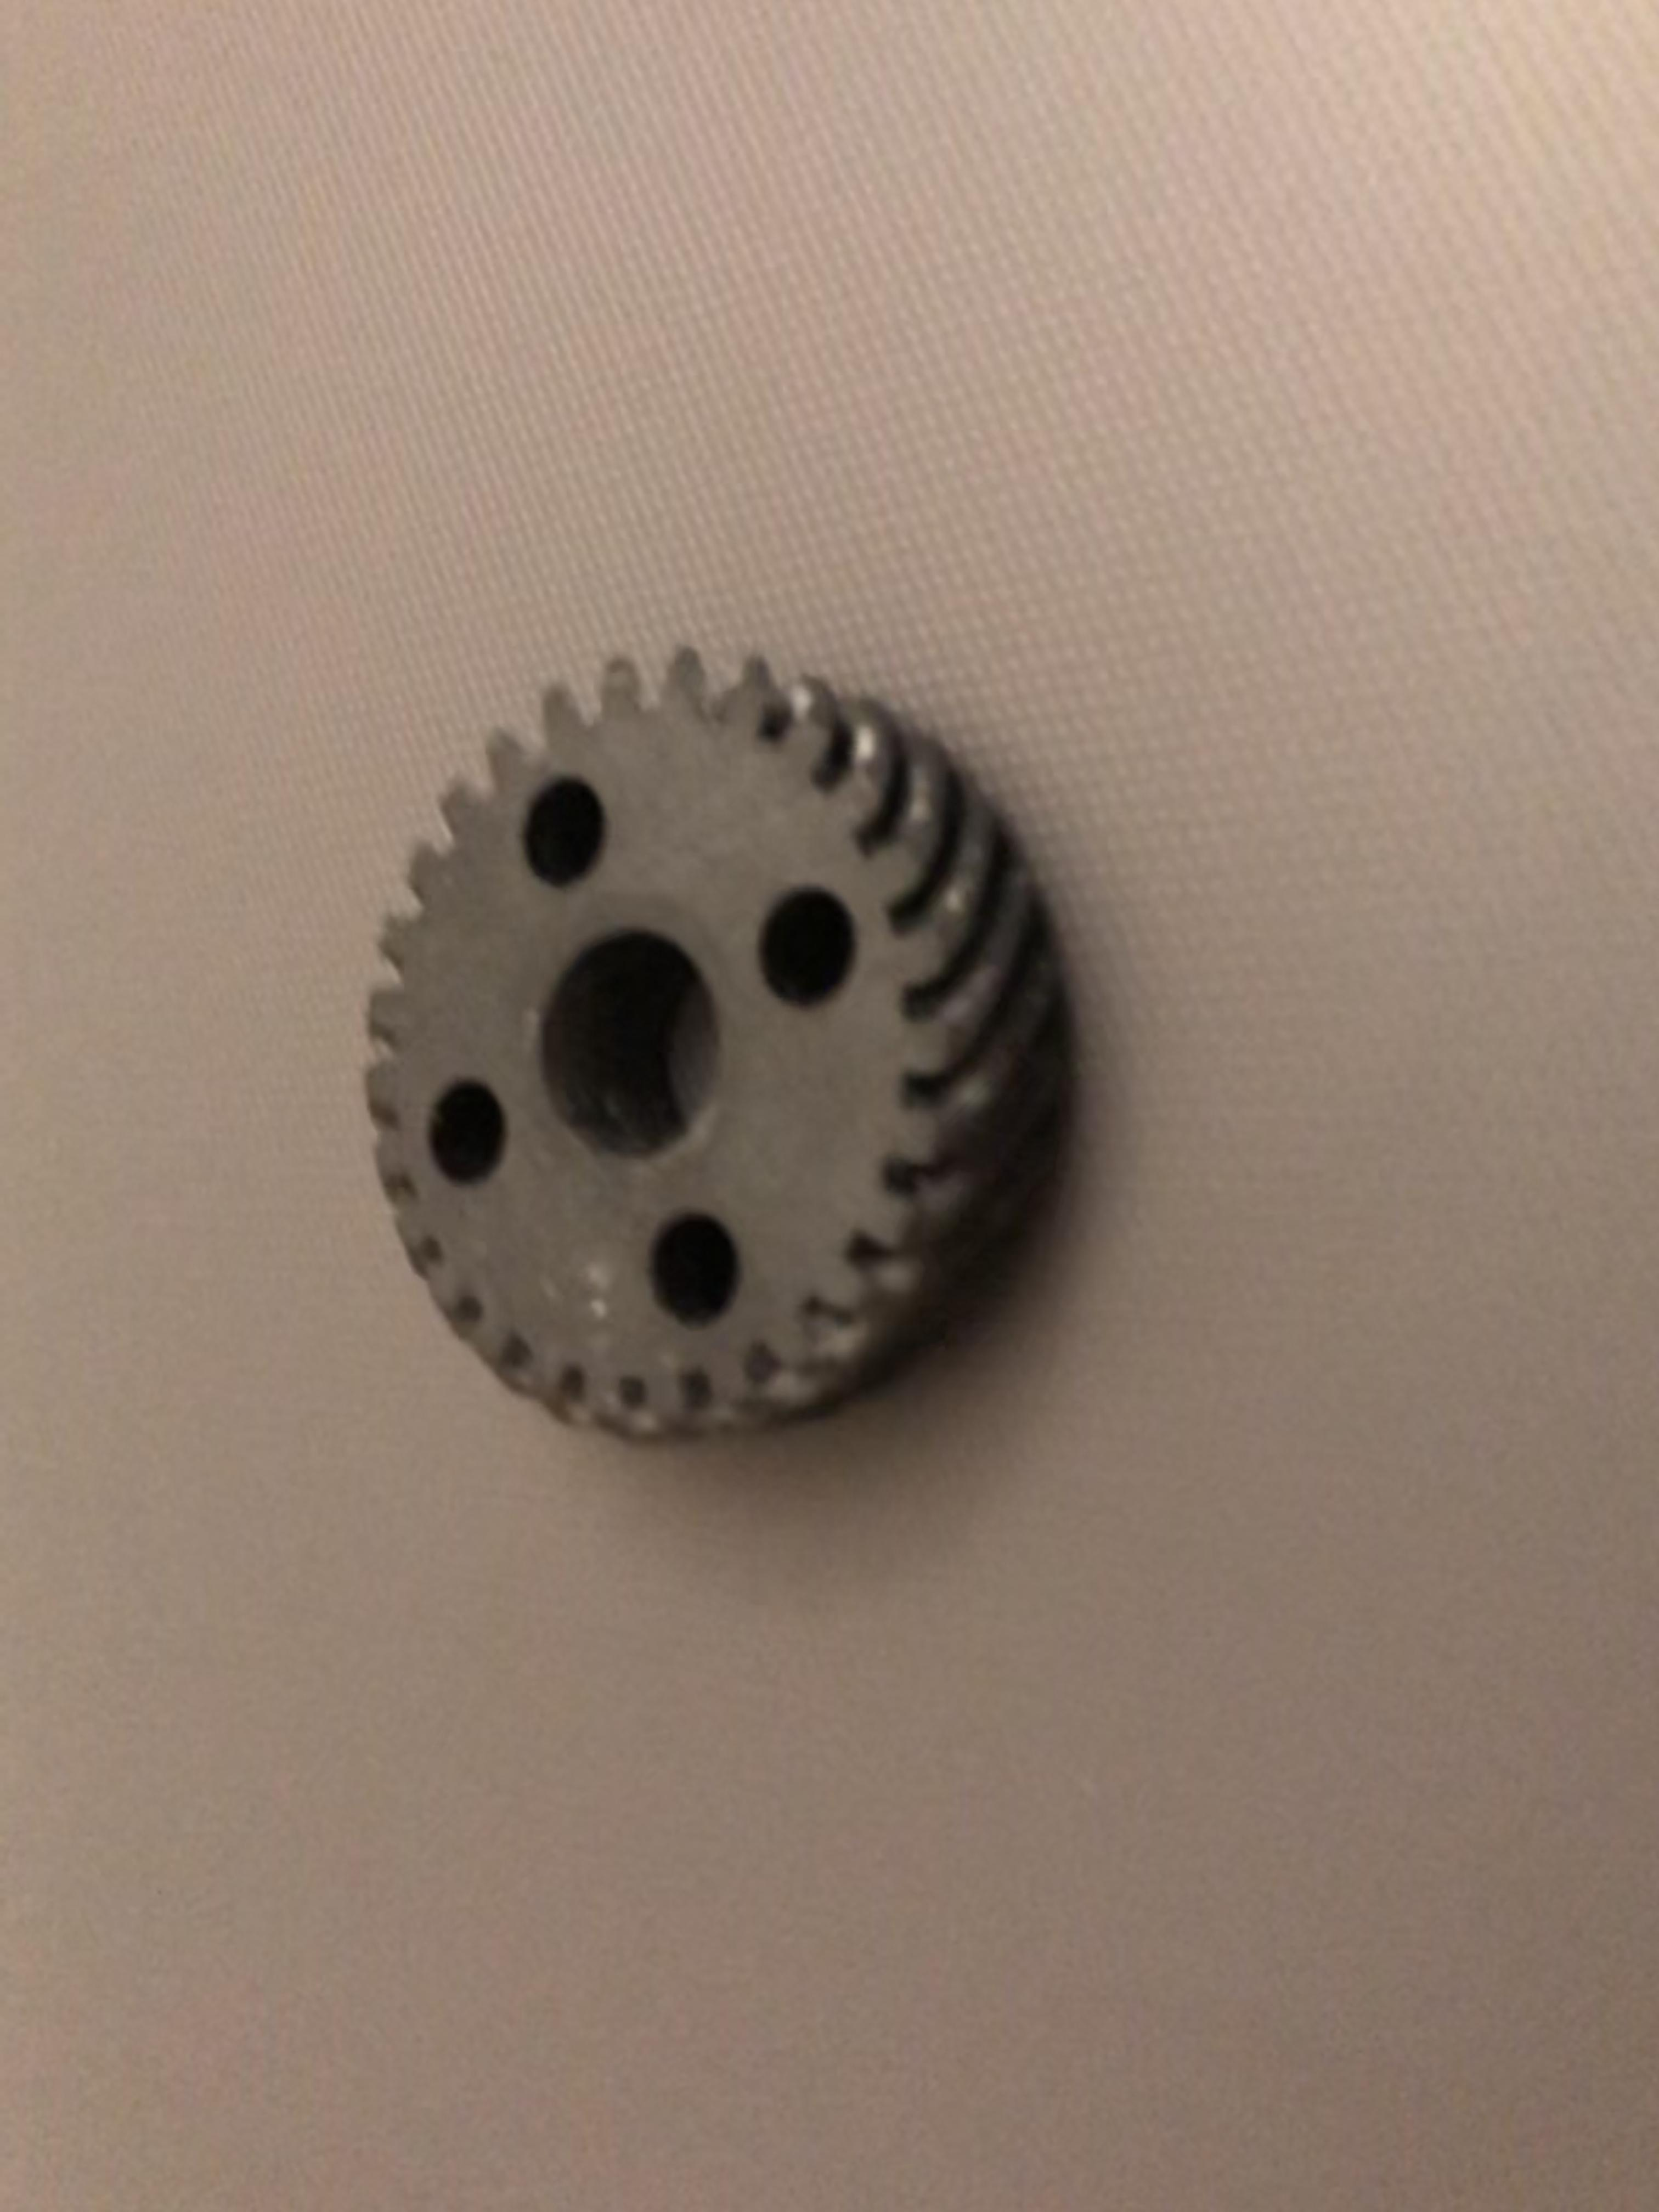Wheel: (349, 646, 1082, 1458)
